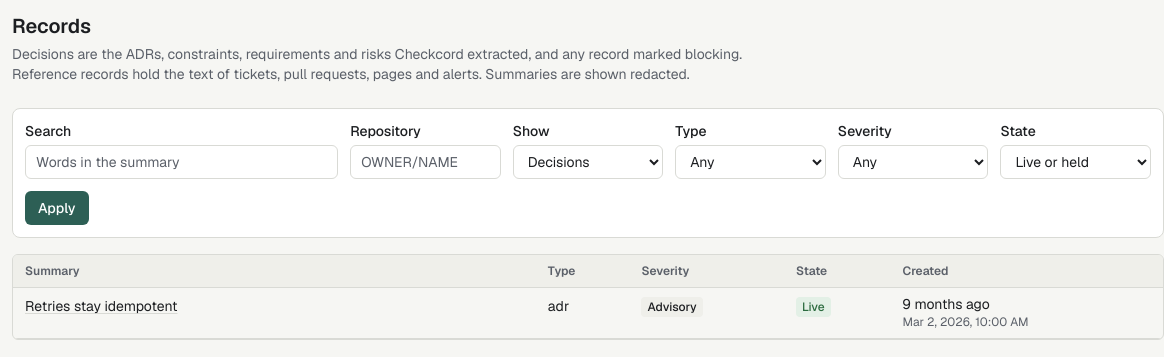
destructive actions ask first › the records list filters by retired
Expected: the link "Retries stay idempotent" is shown, x1=25 y1=297 x2=178 y2=315
Select "Retired" in the dropdown labelled "State" at (1076, 162), box x1=1000 y1=145 x2=1151 y2=179
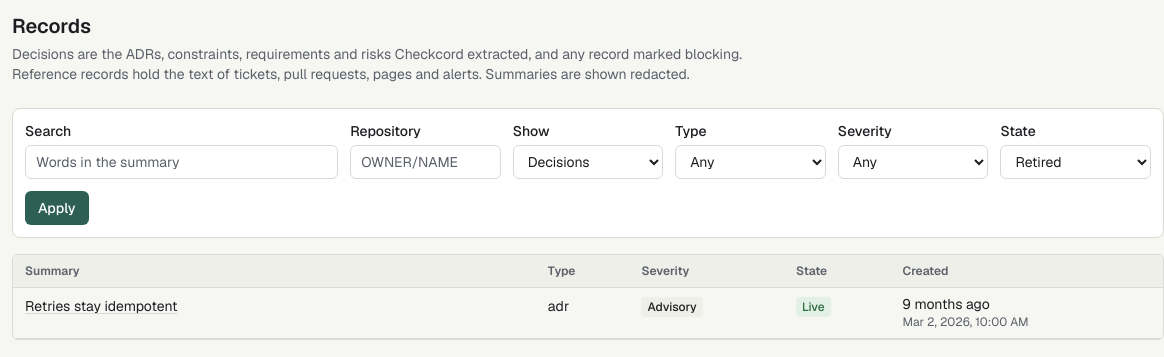
Click the button "Apply" at (57, 208), box x1=25 y1=191 x2=88 y2=225
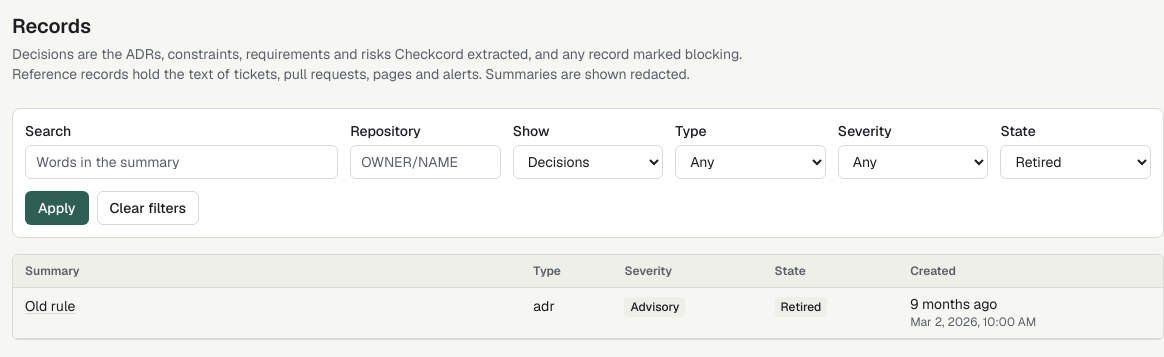
Now the link "Old rule" is shown, box x1=25 y1=297 x2=75 y2=315
